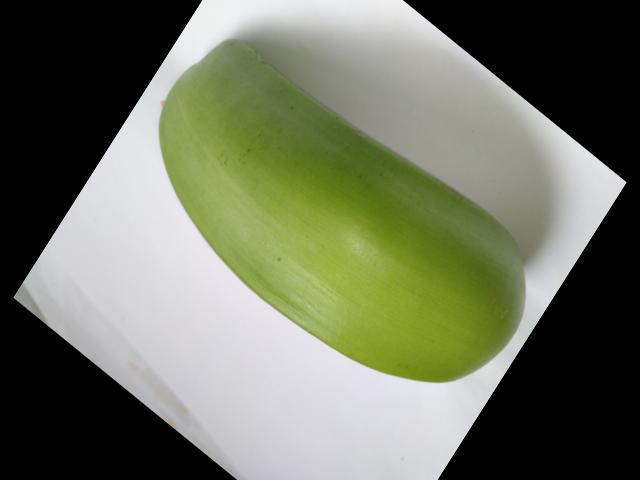freshunripe: (142, 26, 541, 407)
